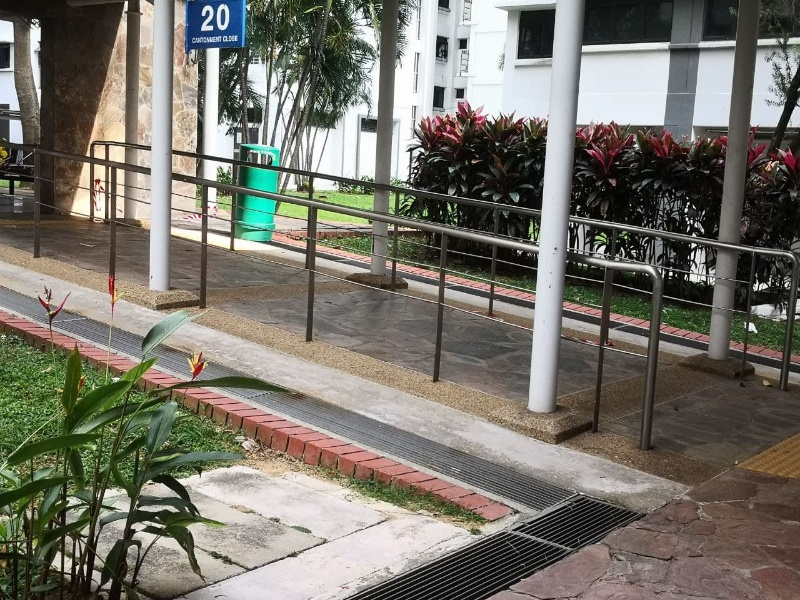slope: (113, 153, 737, 484)
